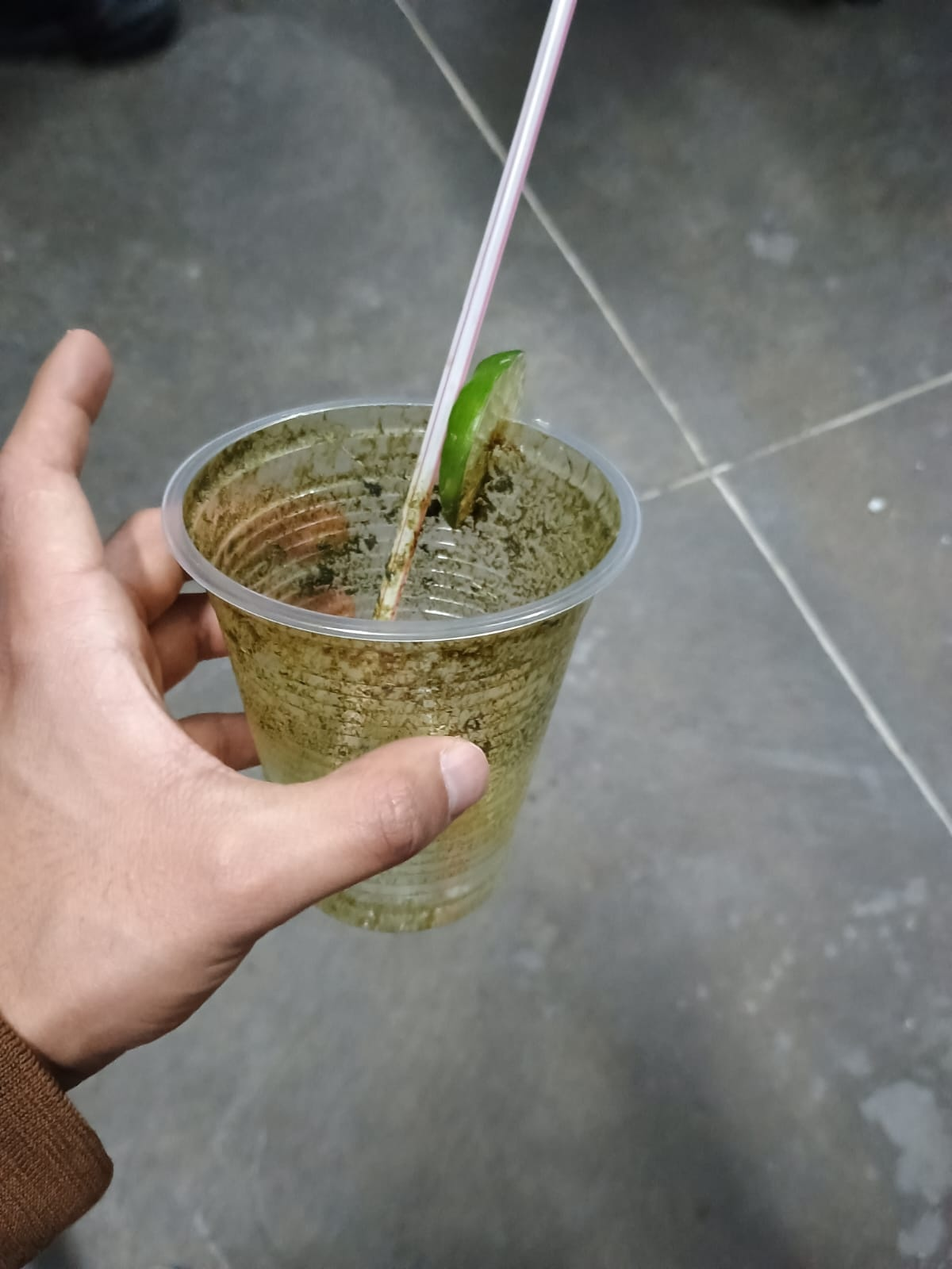Plastico: (163, 395, 644, 933)
